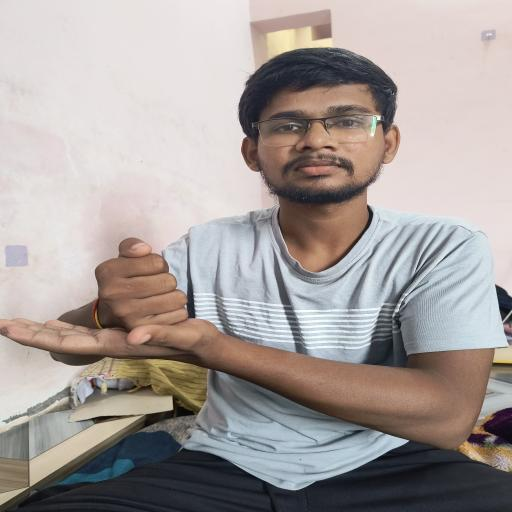Next: (0, 214, 218, 388)
